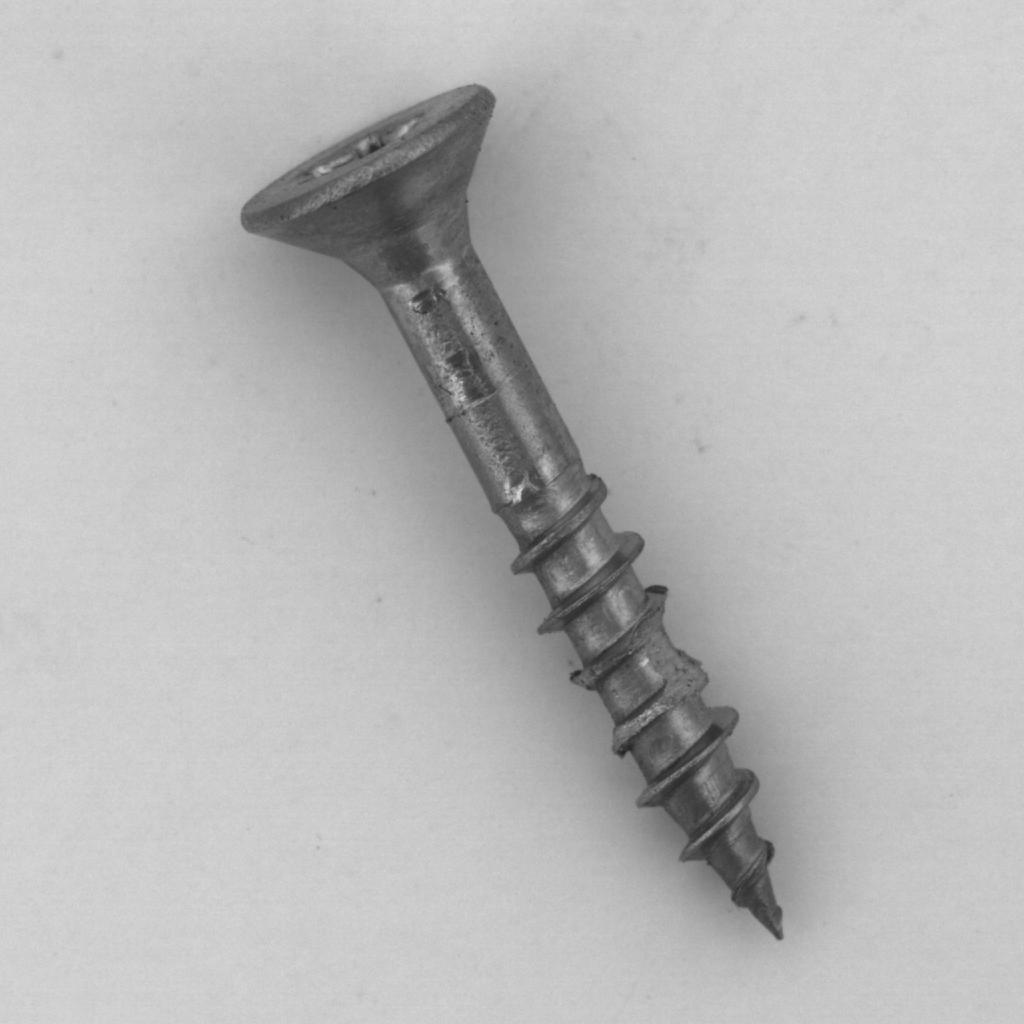thread_top: (560, 498, 771, 749)
